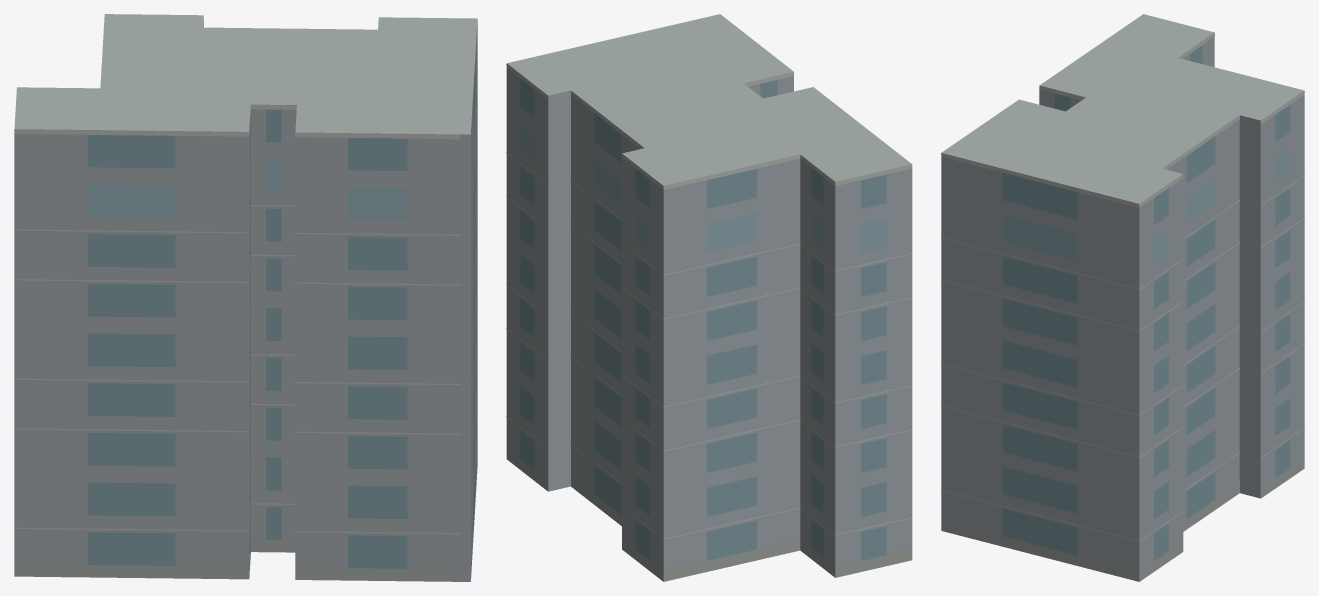
Rendered from survey-upis-32726592.glb.
3 renders of one model, left to right at view 1: azimuth 30°, elevation 25°; view 2: azimuth 150°, elevation 25°; view 3: azimuth 270°, elevation 25°, orthographic. The views are drawn at different scales.
Visible parts, largest first — view 1: survey-upis-32726592.tmp; view 2: survey-upis-32726592.tmp; view 3: survey-upis-32726592.tmp.
Boxes of the visible parts, x1,y1,x2,y2 form: survey-upis-32726592.tmp: (14,14,477,581); survey-upis-32726592.tmp: (506,14,912,581); survey-upis-32726592.tmp: (941,14,1304,581).
Size of the model in its own units: 24.26 by 22.5 by 19.62.
